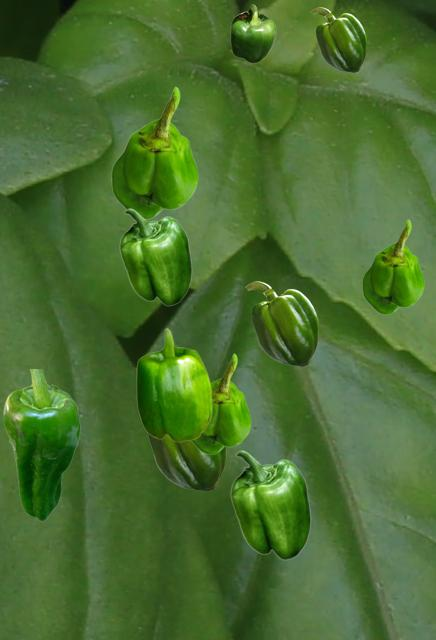bell_pepper: (3, 369, 79, 520), (111, 86, 197, 218), (230, 450, 310, 559), (136, 328, 211, 441), (119, 208, 191, 305), (245, 281, 317, 365), (190, 353, 250, 453), (362, 219, 423, 313), (147, 434, 225, 490), (311, 7, 365, 71), (230, 4, 275, 62)
